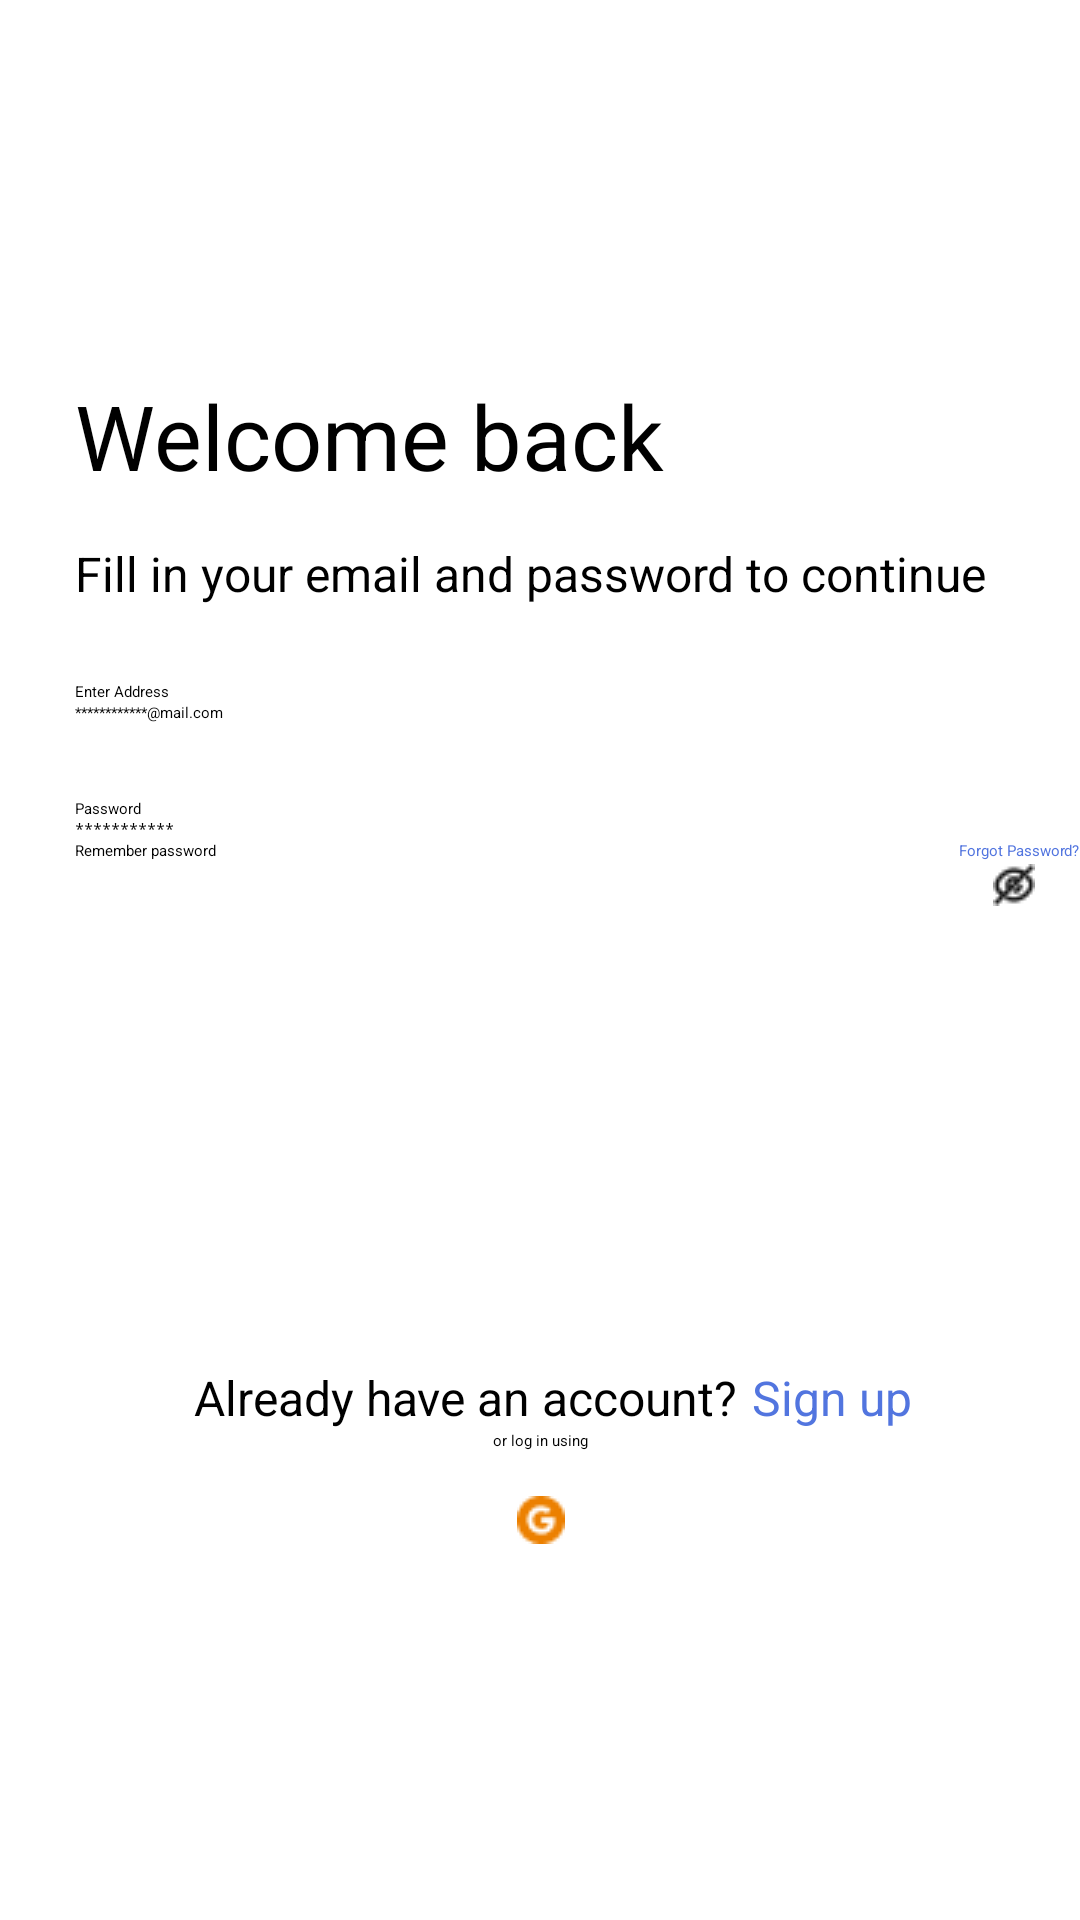

Where icons sit on this 1080 × 1920 app screen, as (x1, y1, x2, y2):
eye: (993, 864, 1035, 906)
